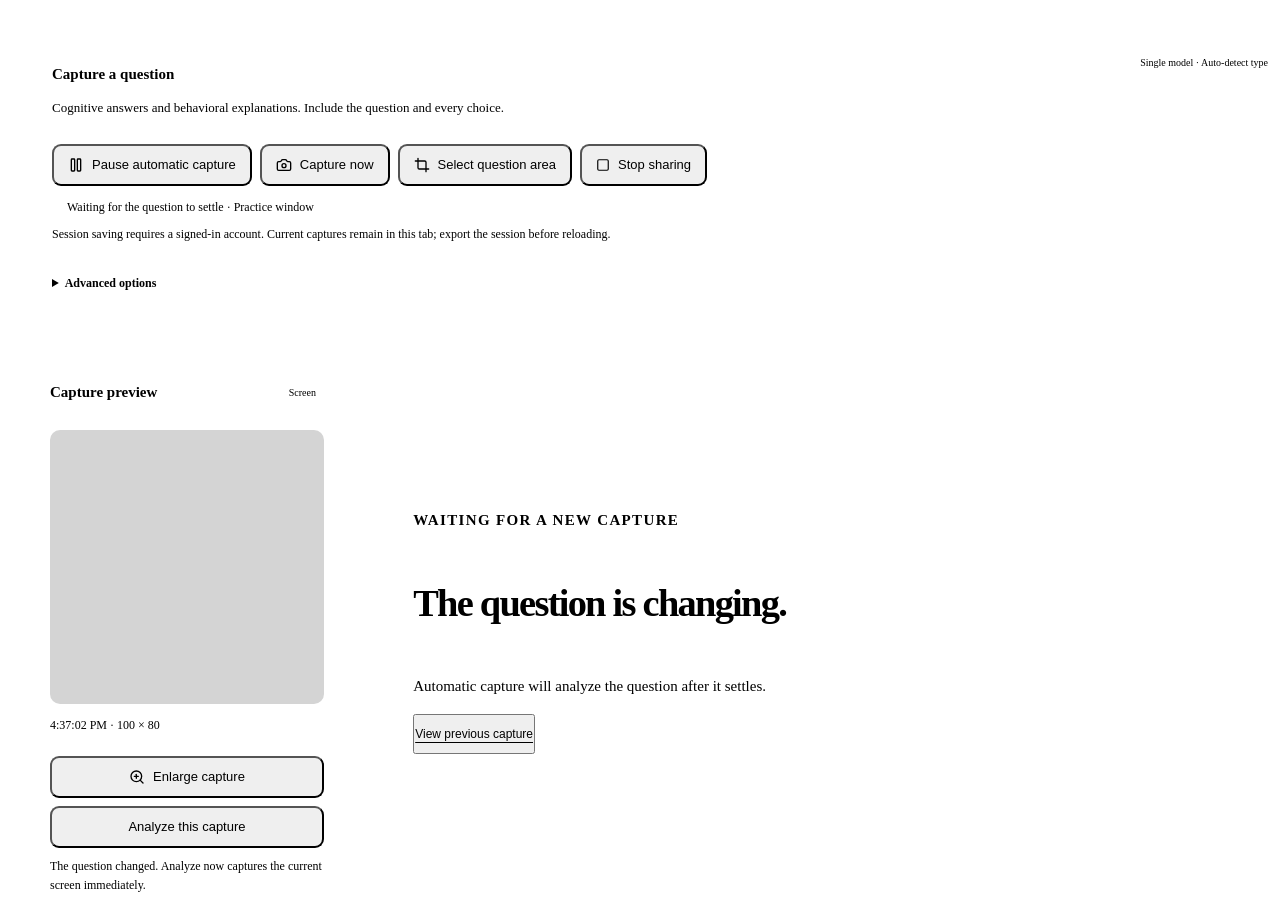
Test: aptitude workspace › keeps manual Analyze usable while the changed screen is settling
Earlier steps of the test are not shown.
Step 1. Click the button "Analyze this capture" → (187, 826), box [50,806,324,848]
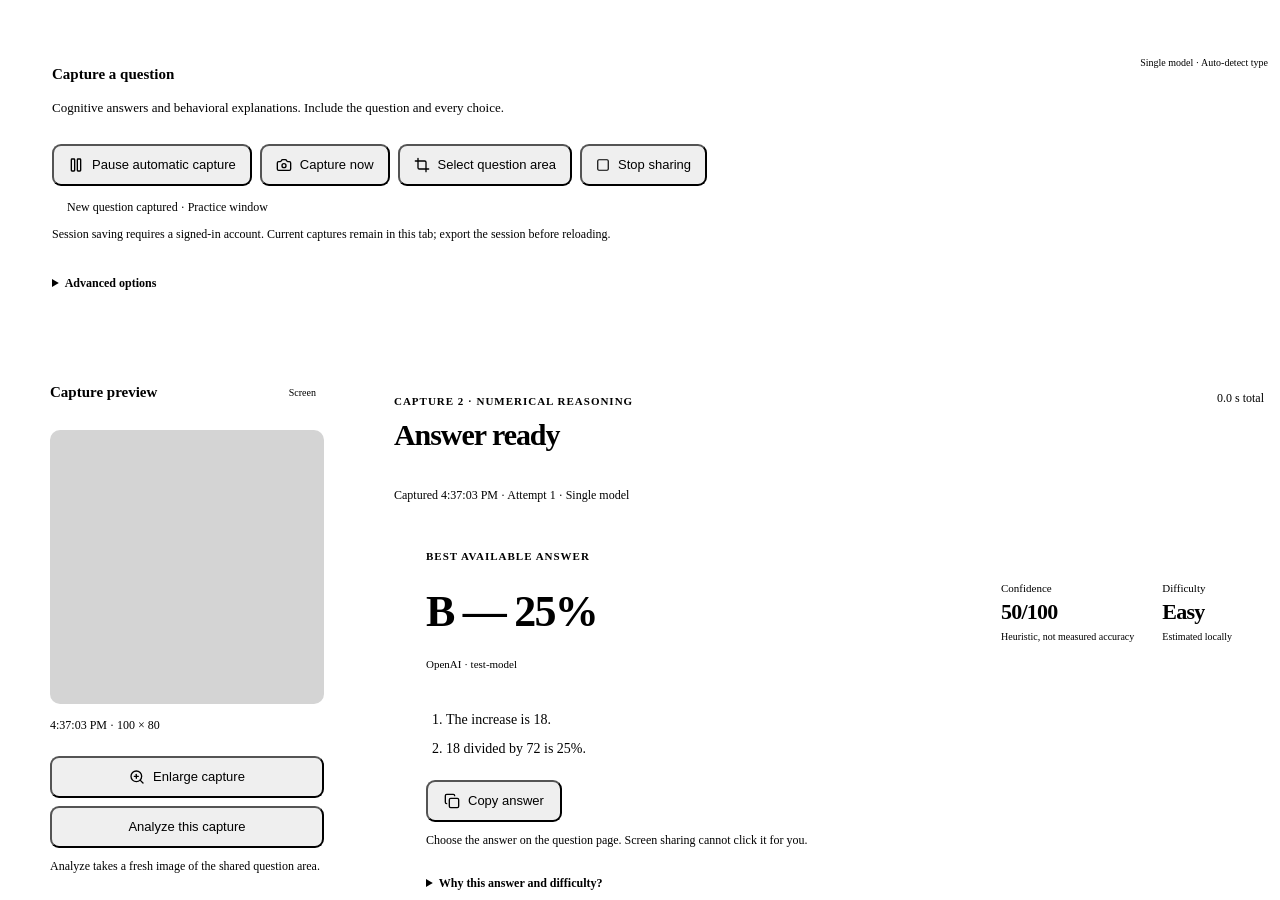
Result: the heading "B — 25%" is shown at [426,587,597,636]
